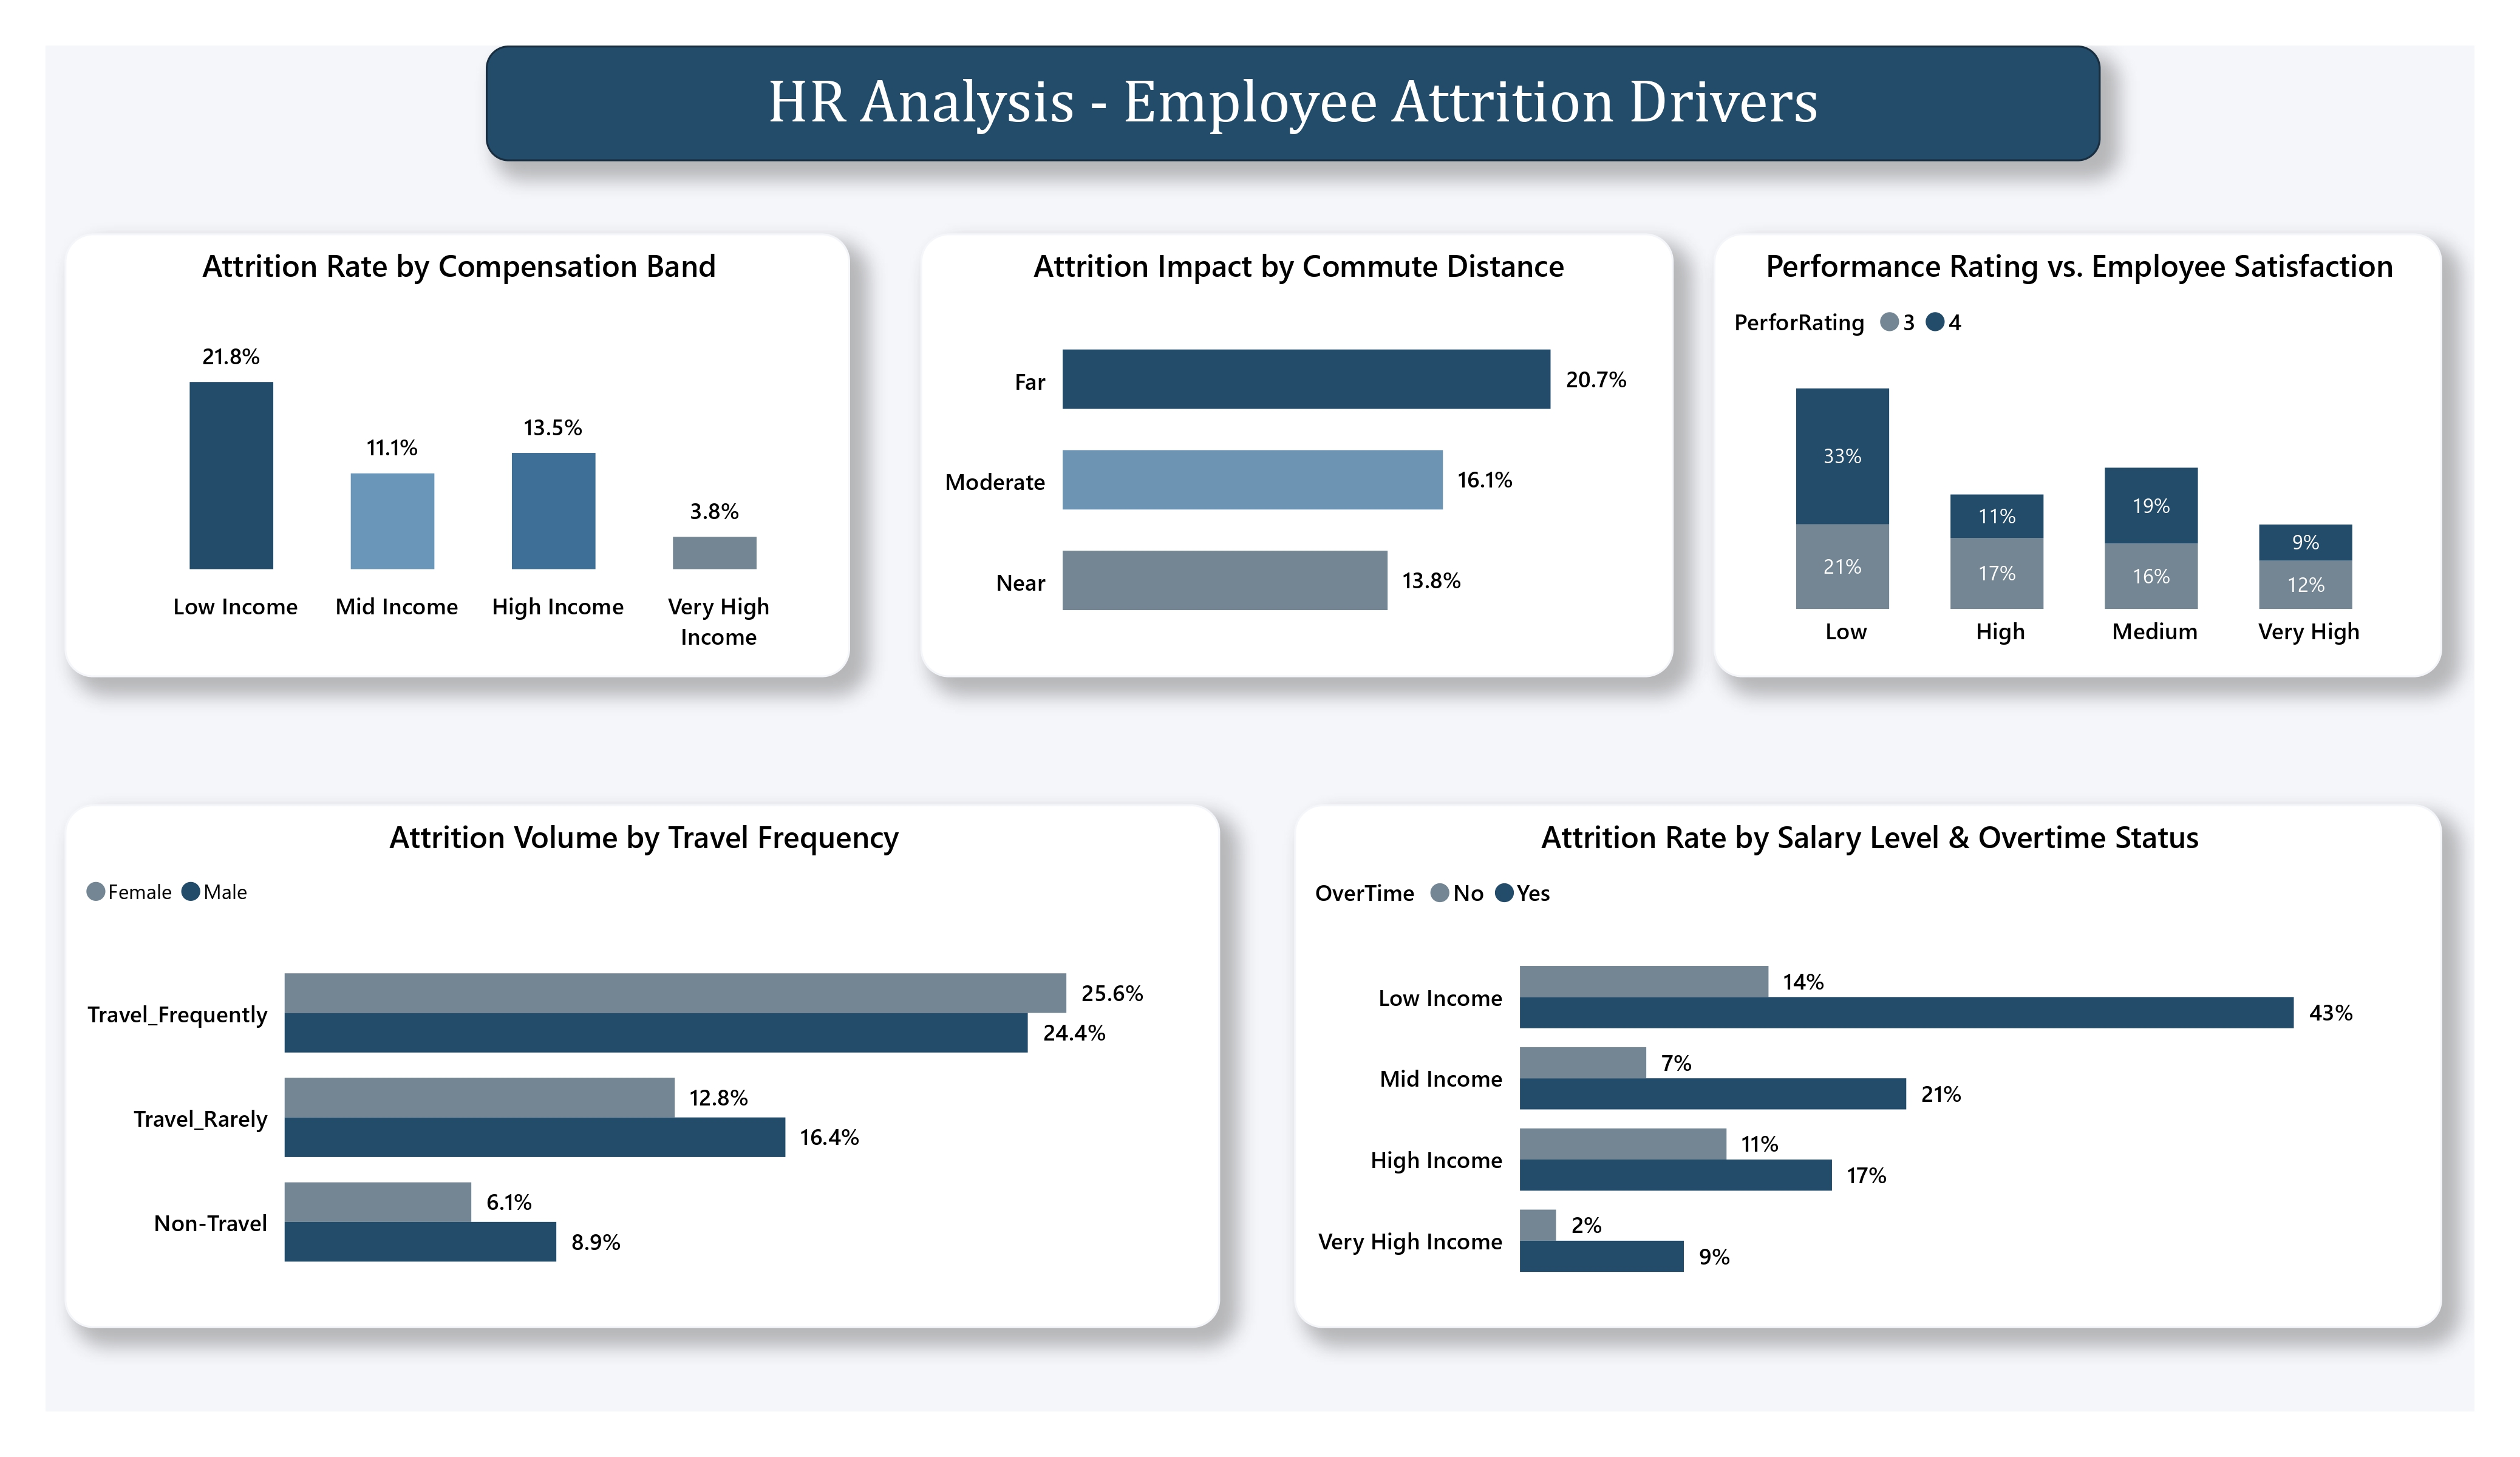

This screenshot's page, from the dashboard's own definition file:
{"tool":"powerbi","page":{"name":" Attrition drivers","canvas":[1280,720],"ordinal":1},"visuals":[{"type":"textbox","box":[232.4,0,850.4,60.9],"z":0},{"type":"barChart","title":"Attrition Impact by Commute Distance","fields":{"Category":["employee_attrition.Distance Group"],"Y":["employee_attrition.Attrition Rate %"]},"box":[22.7,420.9,394,240.9],"z":1000},{"type":"clusteredBarChart","title":"Attrition Volume by Travel Frequency","fields":{"Category":["employee_attrition.BusinessTravel"],"Y":["employee_attrition.Attrition Rate %"],"Series":["employee_attrition.Gender"]},"box":[880.2,133.2,384.1,226.8],"z":2000},{"type":"columnChart","title":"Attrition Rate by Compensation Band","fields":{"Category":["employee_attrition.Salary Group Clean"],"Y":["employee_attrition.Attrition Rate %"]},"box":[23,133,394,227],"z":3000},{"type":"clusteredBarChart","title":"Attrition Rate by Salary Level & Overtime Status","fields":{"Y":["employee_attrition.Attrition Rate %"],"Series":["employee_attrition.OverTime"],"Category":["employee_attrition.Salary Group Clean"]},"box":[433.9,133.2,429.4,228.2],"z":4000},{"type":"lineChart","title":"Attrition Rate  by Years Since Last Promotion","fields":{"Category":["employee_attrition.Promotion Group"],"Y":["employee_attrition.Attrition Rate %"]},"box":[433.7,420.9,429.4,240.9],"z":5000},{"type":"columnChart","title":"Performance Rating vs. Employee Satisfaction","fields":{"Category":["employee_attrition.Satisfaction Level"],"Series":["employee_attrition.PerformanceRating"],"Y":["employee_attrition.Attrition Rate %"]},"box":[880.2,420.9,384.1,240.9],"z":6000}]}

Visuals, with their boxes on the page's 1280x720 design canvas (x1, y1, x2, y2). These are canvas units, not pixel positions in the 2520x1457 screenshot, which may show the page scaled, cropped or inside an application window:
textbox: crop(232, 0, 1083, 61)
"Attrition Impact by Commute Distance" barChart: crop(23, 421, 417, 662)
"Attrition Volume by Travel Frequency" clusteredBarChart: crop(880, 133, 1264, 360)
"Attrition Rate by Compensation Band" columnChart: crop(23, 133, 417, 360)
"Attrition Rate by Salary Level & Overtime Status" clusteredBarChart: crop(434, 133, 863, 361)
"Attrition Rate  by Years Since Last Promotion" lineChart: crop(434, 421, 863, 662)
"Performance Rating vs. Employee Satisfaction" columnChart: crop(880, 421, 1264, 662)
